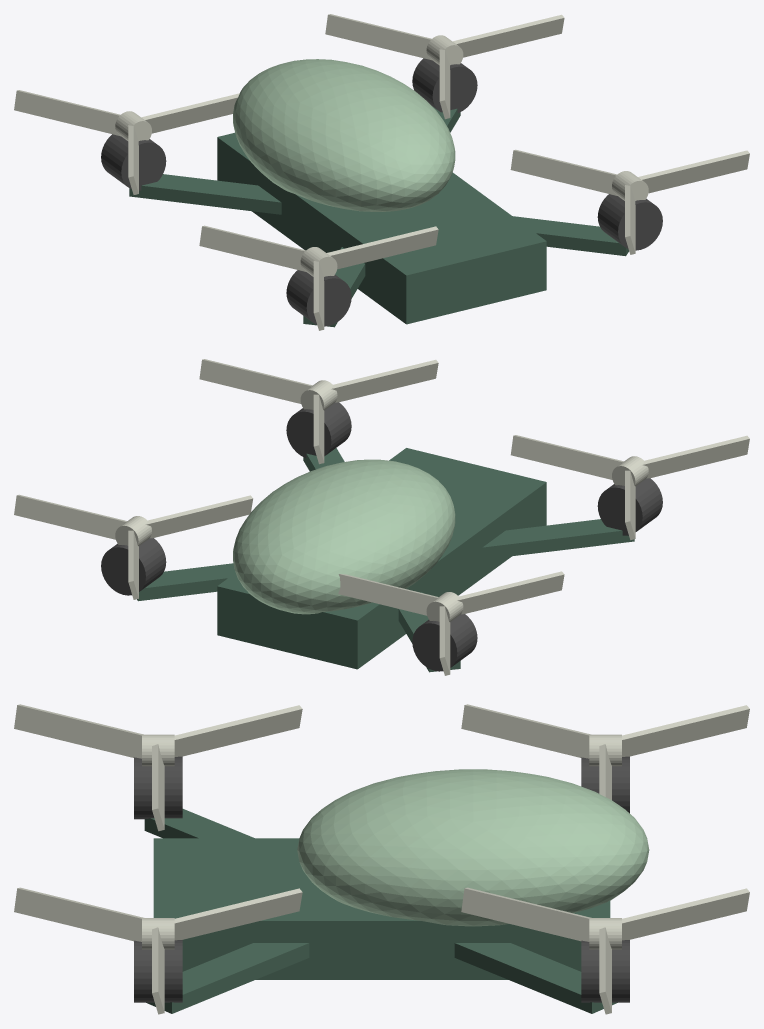
The model's file is Lumenier QAV-S.glb.
3 views of the same model, one above another, from view 1: azimuth 30°, elevation 25°; view 2: azimuth 150°, elevation 25°; view 3: azimuth 270°, elevation 25° (orthographic). The views are drawn at different scales.
Visible parts, largest first — view 1: canopy, frame_body, prop_1, prop_2, prop_0, prop_3, arm_3, arm_0, motor_0, motor_2, motor_1, motor_3 (+1 smaller); view 2: canopy, frame_body, prop_0, prop_2, prop_1, prop_3, arm_2, motor_3, motor_1, motor_0, motor_2, arm_1 (+1 smaller); view 3: canopy, frame_body, prop_2, prop_0, prop_1, prop_3, arm_1, arm_0, motor_0, motor_1, motor_2, arm_2 (+1 smaller).
Boxes of the visible parts, x1,y1,x2,y2 form: canopy: (233, 59, 455, 211); frame_body: (217, 132, 546, 324); prop_1: (325, 14, 564, 119); prop_2: (199, 225, 438, 330); prop_0: (510, 149, 749, 254); prop_3: (14, 90, 239, 194); arm_3: (129, 174, 281, 214); arm_0: (513, 216, 628, 256); motor_0: (597, 194, 662, 250); motor_2: (286, 270, 351, 326); motor_1: (412, 58, 477, 112); motor_3: (101, 134, 166, 190); canopy: (233, 459, 455, 614); frame_body: (217, 448, 546, 669); prop_0: (199, 359, 438, 464); prop_2: (510, 435, 749, 540); prop_1: (14, 494, 253, 599); prop_3: (338, 571, 564, 675); arm_2: (482, 519, 634, 559); motor_3: (412, 614, 477, 671); motor_1: (101, 538, 166, 595); motor_0: (286, 402, 351, 457); motor_2: (597, 478, 662, 535); arm_1: (137, 563, 235, 601); canopy: (297, 769, 649, 926); frame_body: (153, 838, 610, 979); prop_2: (14, 704, 302, 831); prop_0: (14, 887, 302, 1014); prop_1: (461, 887, 749, 1014); prop_3: (461, 704, 749, 799); arm_1: (454, 943, 617, 1013); arm_0: (146, 943, 309, 1013); motor_0: (134, 940, 182, 1002); motor_1: (581, 940, 629, 1002); motor_2: (134, 756, 182, 819); arm_2: (144, 809, 254, 838).
Size of the model in its own units: 0.2097 by 0.0516 by 0.2257.
